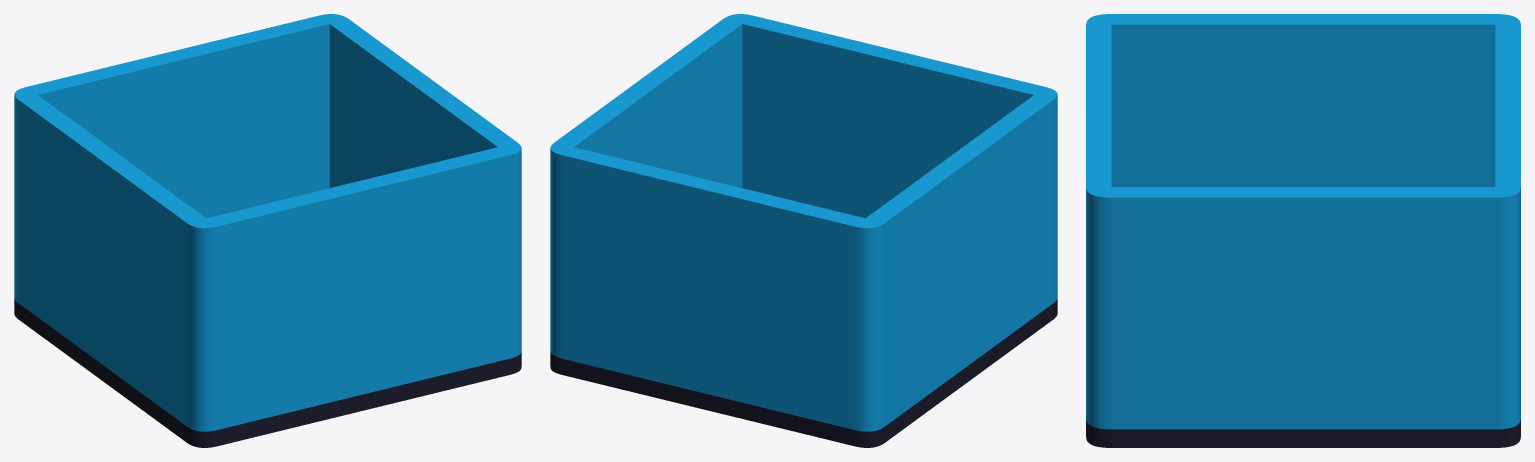
Rendered from docker.glb.
3 views of the same model, side by side, from view 1: azimuth 30°, elevation 25°; view 2: azimuth 150°, elevation 25°; view 3: azimuth 270°, elevation 25° (orthographic). The views are drawn at different scales.
Bounding box in the file's own units: 1.7 × 1.08 × 1.7.
